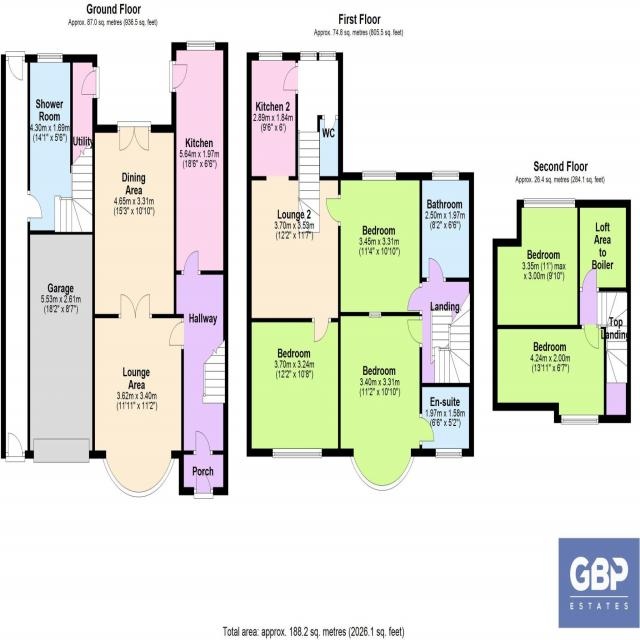DOOR: (7, 53, 24, 84), (80, 68, 98, 97), (167, 319, 185, 348), (7, 430, 24, 460), (313, 316, 330, 346), (418, 416, 436, 444), (405, 318, 423, 346), (427, 256, 445, 284), (182, 248, 200, 276), (195, 428, 212, 457), (195, 467, 212, 496), (325, 196, 342, 225), (581, 265, 598, 294), (171, 63, 189, 90), (583, 323, 600, 351), (282, 65, 299, 92), (28, 193, 44, 220), (407, 285, 423, 312), (435, 447, 464, 460), (323, 114, 337, 136)
DOUBLE DOOR: (117, 291, 152, 319)
ROOM: (246, 50, 345, 345), (92, 291, 185, 501), (337, 312, 435, 493), (91, 120, 177, 321), (325, 170, 423, 317), (245, 316, 342, 461), (169, 41, 229, 275), (491, 323, 608, 425), (492, 198, 581, 331), (246, 52, 299, 181)
WINDOW: (101, 448, 176, 499), (347, 447, 416, 492), (522, 196, 576, 210), (271, 447, 323, 461), (361, 169, 397, 182), (560, 414, 599, 425), (431, 169, 460, 183), (37, 51, 64, 65), (186, 40, 216, 52), (258, 49, 283, 63), (318, 49, 337, 63), (300, 50, 318, 62), (368, 311, 382, 319)
